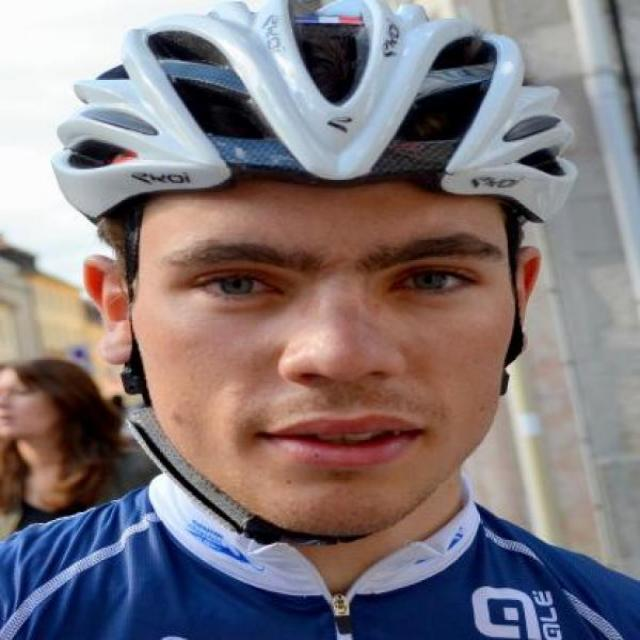Helmet: (62, 16, 556, 513)
